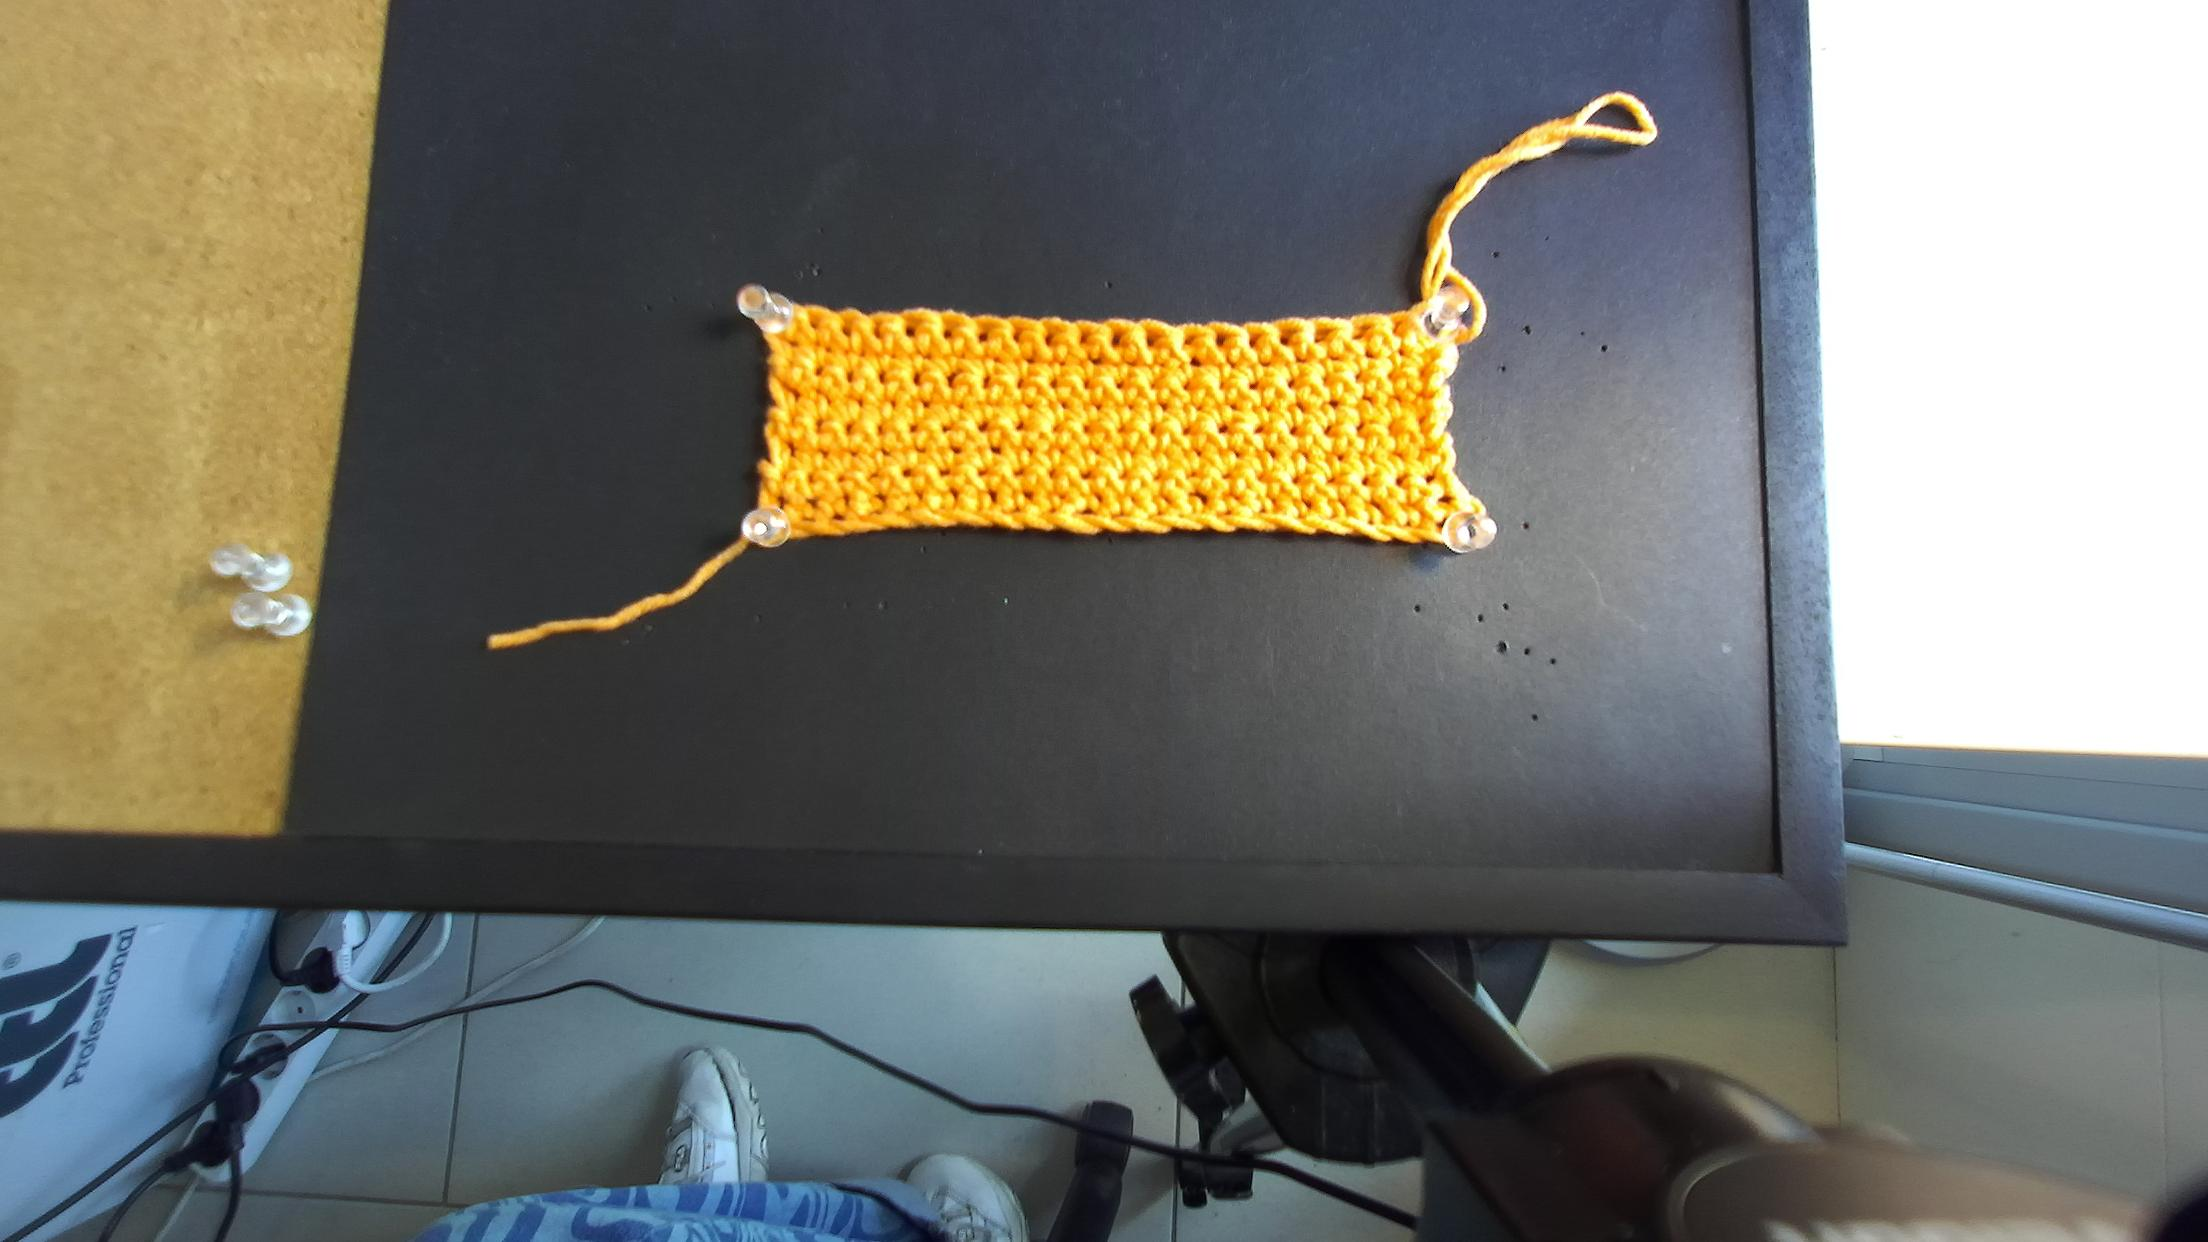hole: (1110, 331, 1125, 347), (1315, 331, 1333, 344), (842, 320, 854, 340), (1146, 334, 1162, 349), (1250, 334, 1263, 350), (1045, 331, 1057, 349), (1351, 329, 1369, 340), (1078, 329, 1090, 344), (1278, 334, 1294, 346), (1216, 335, 1228, 349), (1394, 323, 1406, 337), (873, 325, 883, 341), (810, 315, 820, 329), (978, 332, 989, 344), (1013, 331, 1022, 344), (1184, 337, 1198, 346), (907, 323, 914, 338), (943, 328, 952, 340)
swatch: (740, 306, 1495, 554)
